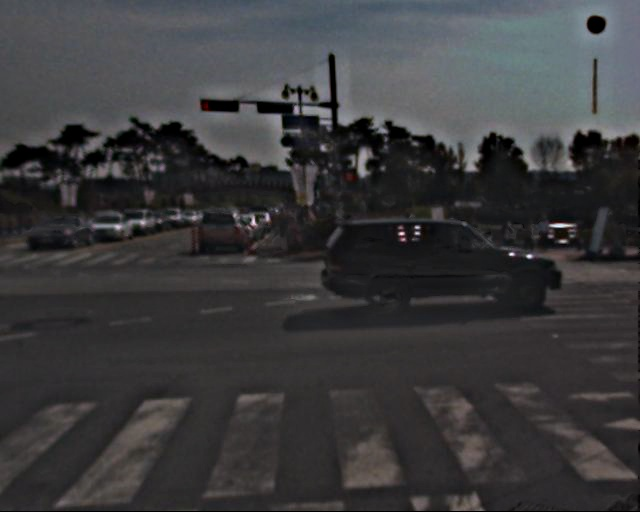person: (271, 210, 315, 252), (466, 214, 487, 265), (523, 220, 542, 266), (538, 215, 556, 260), (503, 221, 521, 266), (581, 210, 599, 254)
